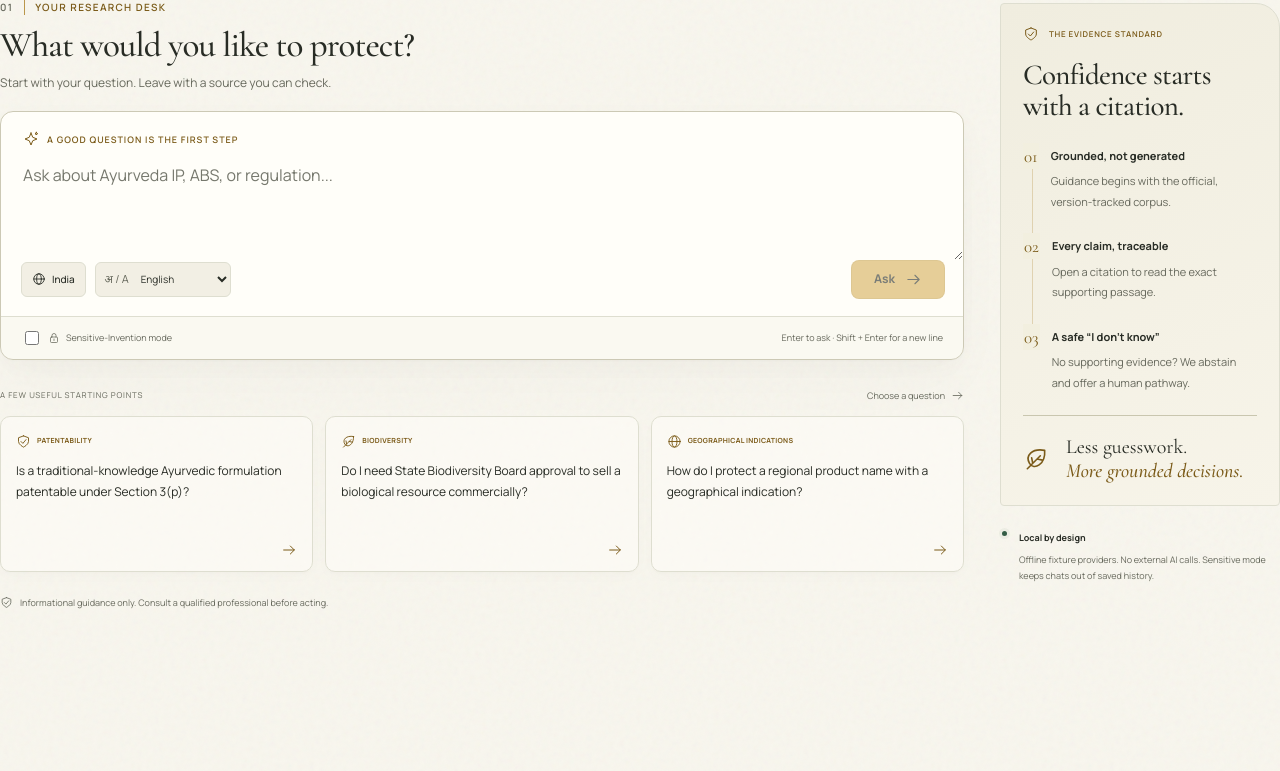
Test: accessible research desk › preserves language and sensitive flags and never persists a sensitive answer
This screenshot has width=1280, height=771.
Select "తెలుగు · Telugu" in the dropdown with test id "lang-select" at (182, 279), box [134,263,230,296]
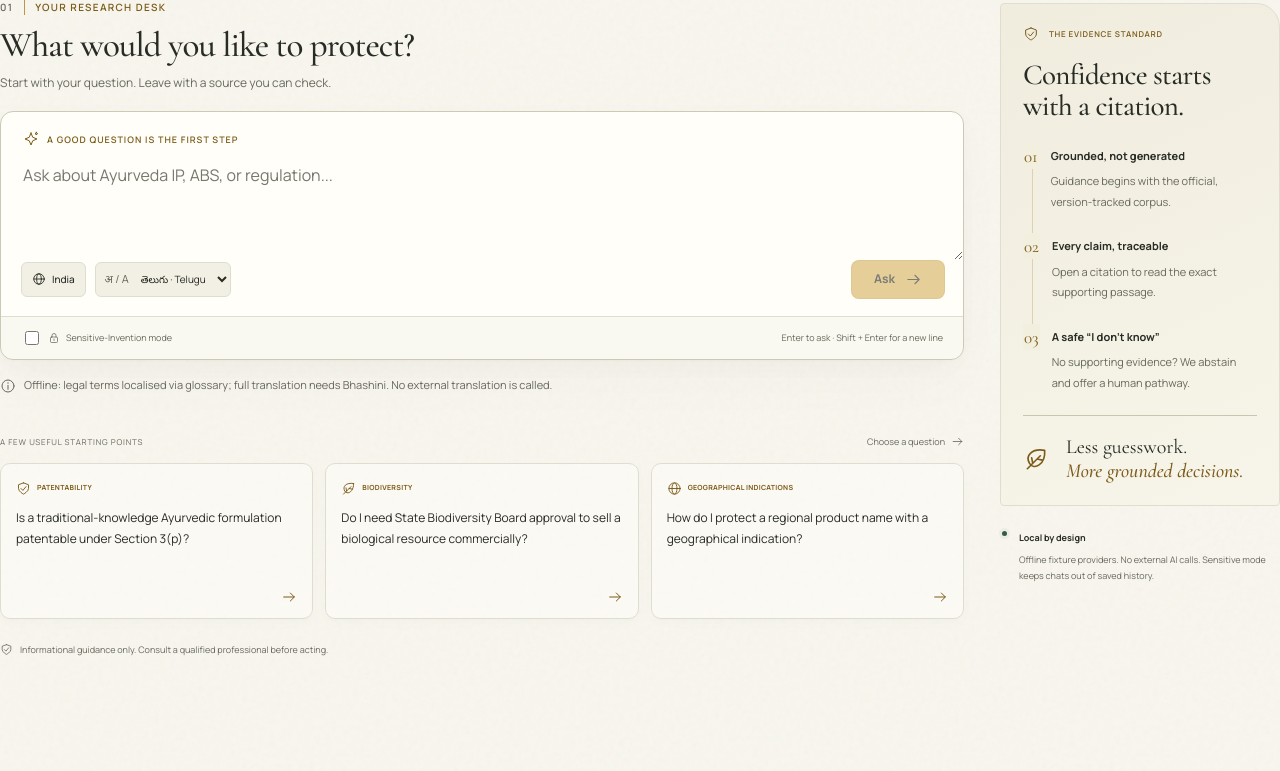
Click the checkbox with test id "sensitive-toggle" at (32, 338), box [25,331,39,345]
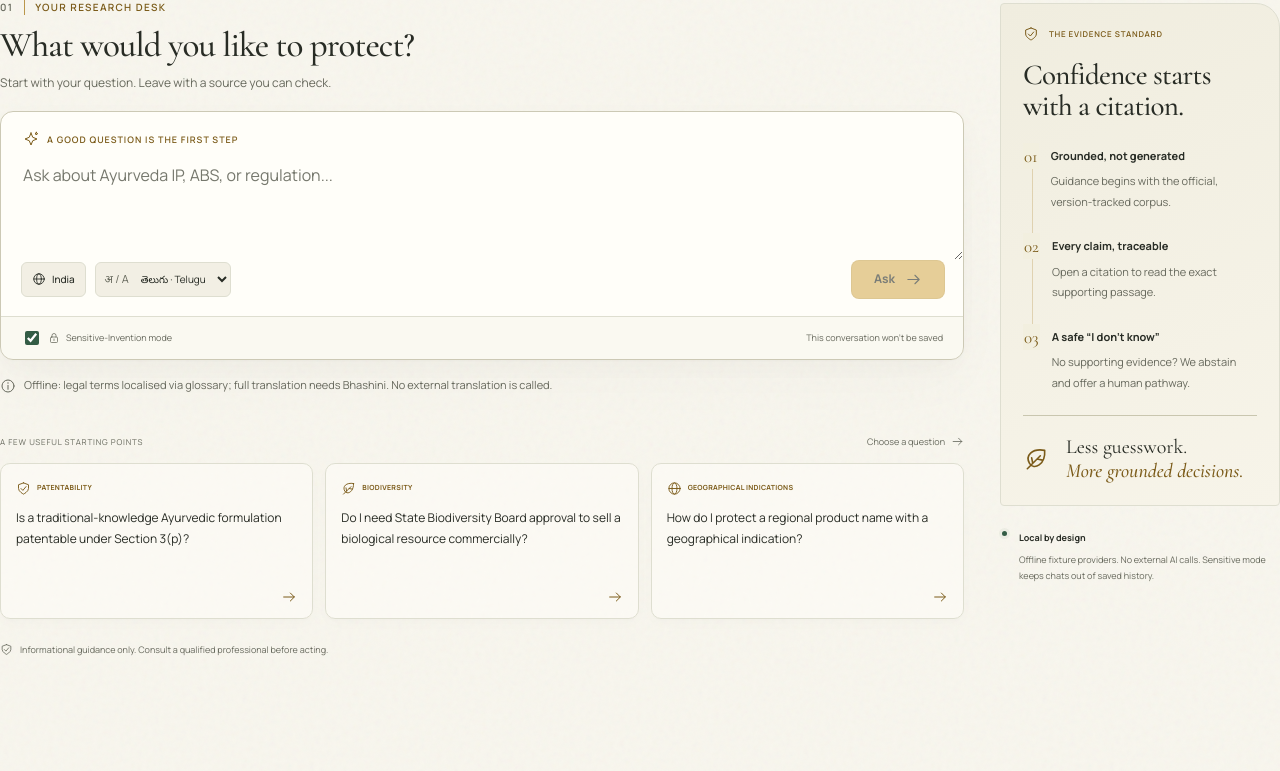
Type "My formulation" into the text box named "Your Ayurveda IP or regulatory question" at (482, 203), box [1,147,963,260]
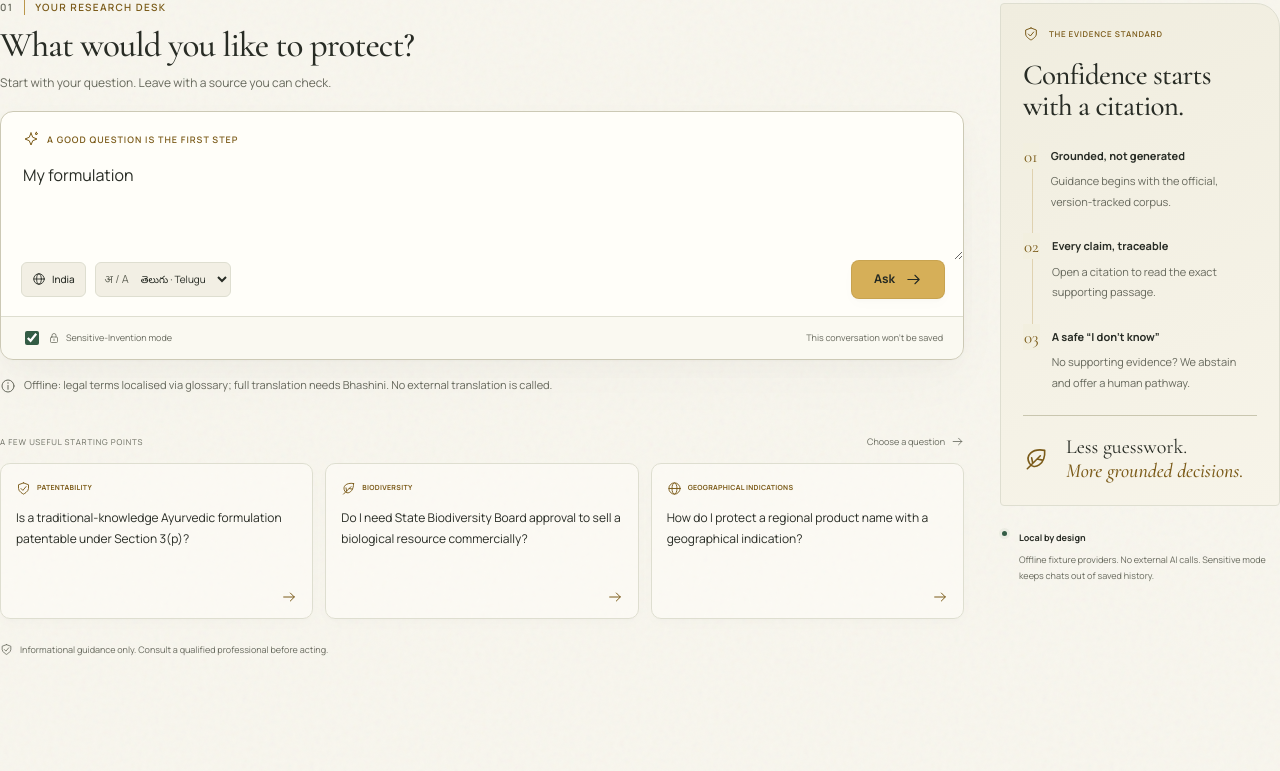
Click the button "Ask" at (898, 279), box [851,260,945,299]
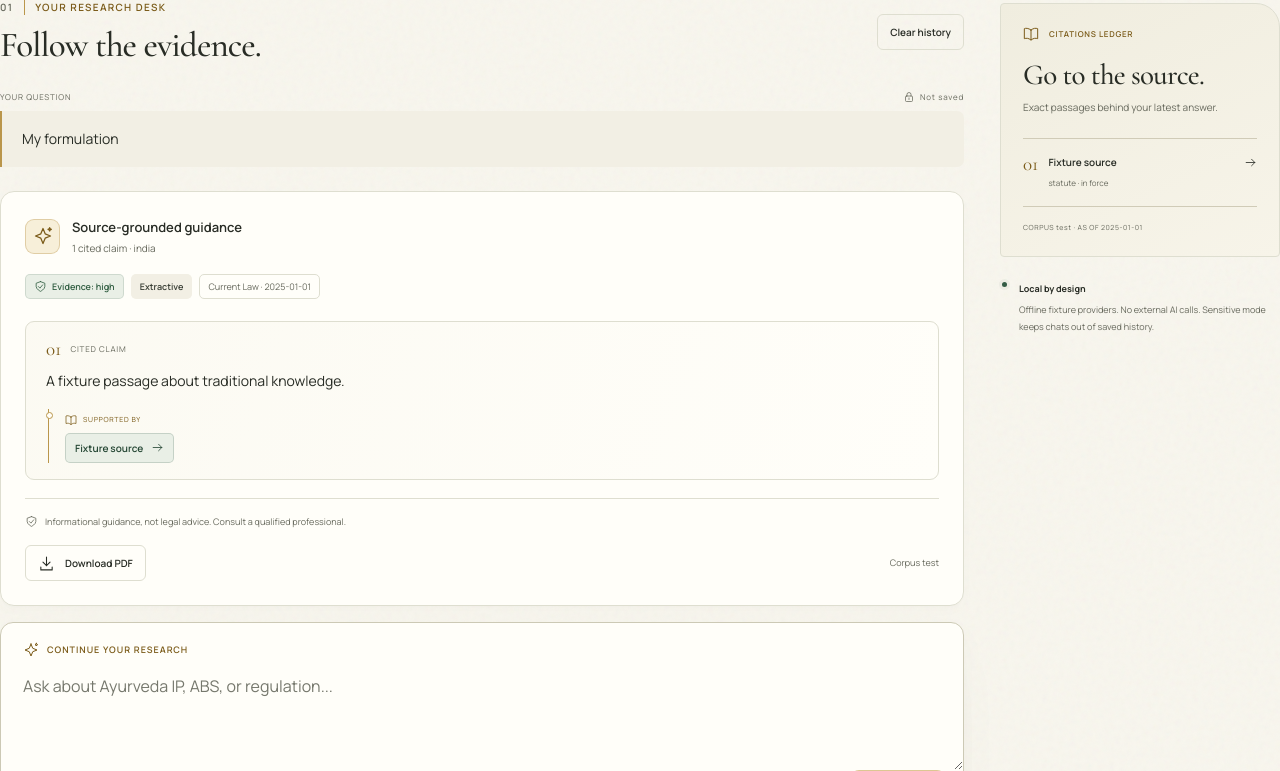
Expected: the element with test id "chat-message" is shown, [0,191,964,606]
